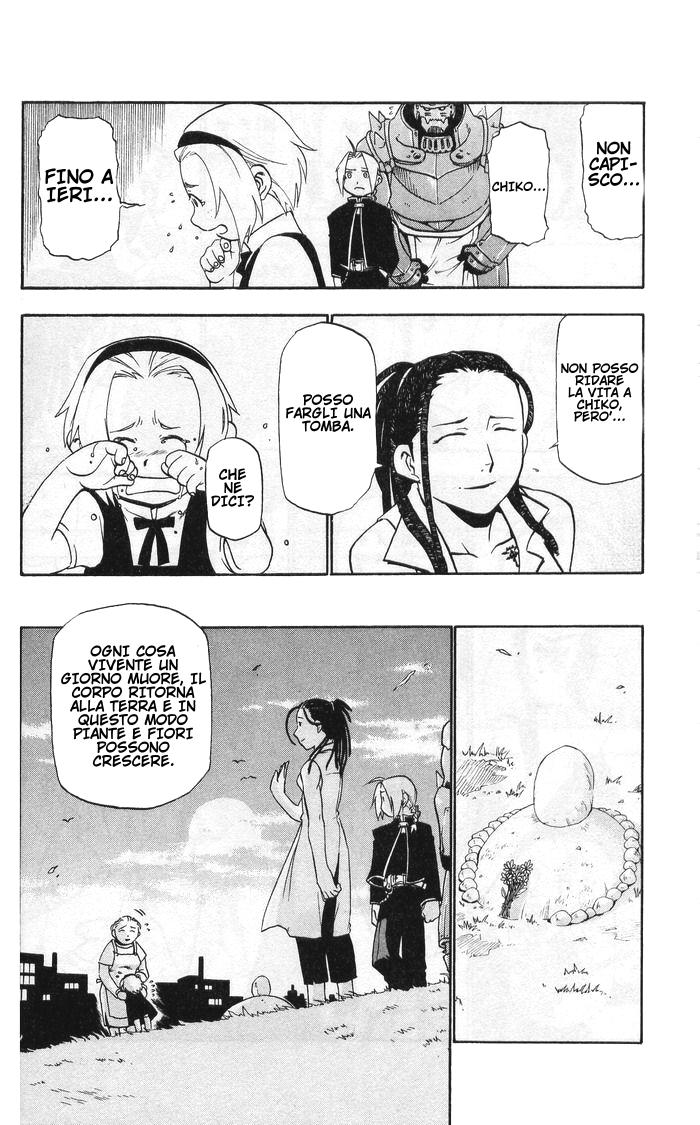Baloon: (48, 605, 209, 808), (279, 322, 388, 513), (553, 317, 641, 486), (41, 117, 128, 262), (581, 103, 643, 239), (488, 124, 555, 248), (202, 436, 262, 541)
Vignetta: (19, 629, 450, 1125), (22, 103, 645, 288), (329, 313, 641, 579), (19, 315, 329, 577), (453, 625, 643, 1043)
